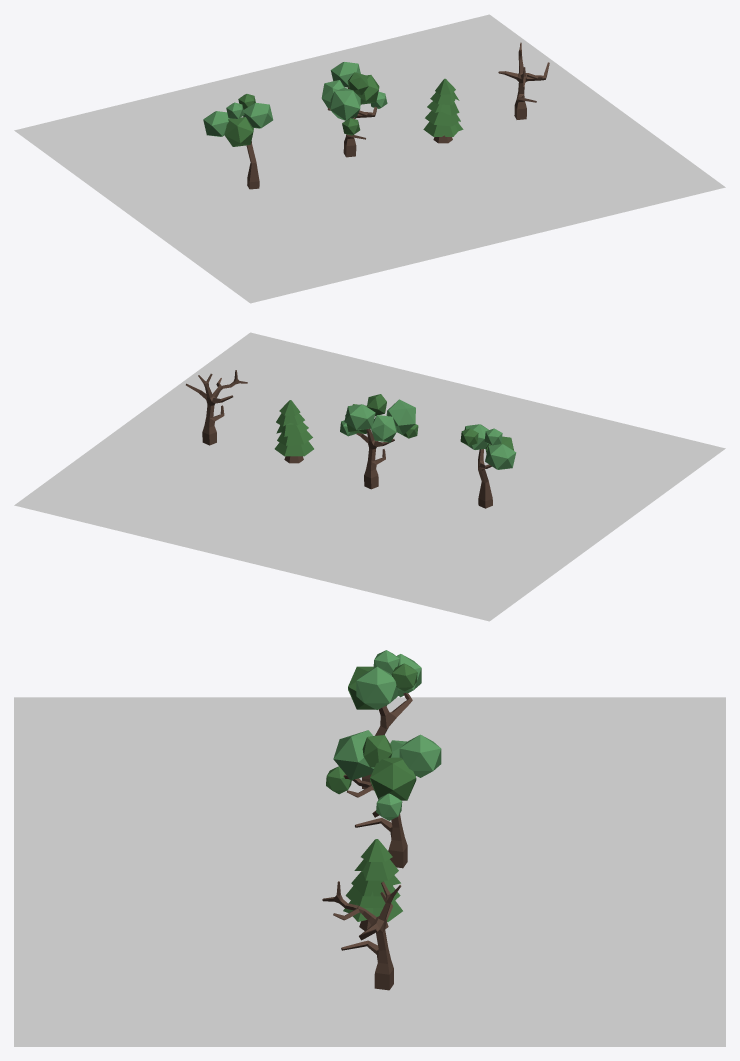
3 views of the same model, one above another, from view 1: azimuth 30°, elevation 25°; view 2: azimuth 150°, elevation 25°; view 3: azimuth 270°, elevation 25° (orthographic). The views are drawn at different scales.
Parts seen in each view (by area): view 1: Plane, Cylinder, Cube.001, Icosphere.002, Icosphere.011, Icosphere.007, Icosphere.009; view 2: Plane, Cylinder, Cube.001, Cube, Icosphere.002, Icosphere.001, Icosphere.009, Icosphere.004, Cube.002; view 3: Plane, Cylinder, Cube.001, Icosphere.003, Icosphere.007, Icosphere.002, Icosphere.001, Cube, Icosphere.006.
Part boxes in pixels (x1,y1,x2,y2): Plane: [14, 14, 725, 303]; Cylinder: [423, 78, 463, 136]; Cube.001: [498, 42, 549, 119]; Icosphere.002: [330, 87, 360, 120]; Icosphere.011: [224, 117, 253, 146]; Icosphere.007: [243, 102, 273, 128]; Icosphere.009: [203, 111, 230, 136]; Plane: [14, 332, 725, 621]; Cylinder: [274, 400, 313, 456]; Cube.001: [186, 370, 247, 445]; Cube: [356, 428, 394, 489]; Icosphere.002: [386, 399, 415, 434]; Icosphere.001: [344, 404, 375, 430]; Icosphere.009: [485, 444, 516, 469]; Icosphere.004: [371, 415, 396, 442]; Cube.002: [478, 449, 492, 508]; Plane: [14, 697, 725, 1046]; Cylinder: [343, 839, 402, 921]; Cube.001: [322, 881, 401, 990]; Icosphere.003: [370, 757, 416, 800]; Icosphere.007: [356, 666, 397, 709]; Icosphere.002: [333, 730, 374, 780]; Icosphere.001: [399, 734, 441, 777]; Cube: [343, 774, 407, 868]; Icosphere.006: [362, 735, 392, 767].
Bounding box in the file's own units: 5485 × 971 × 4721.
